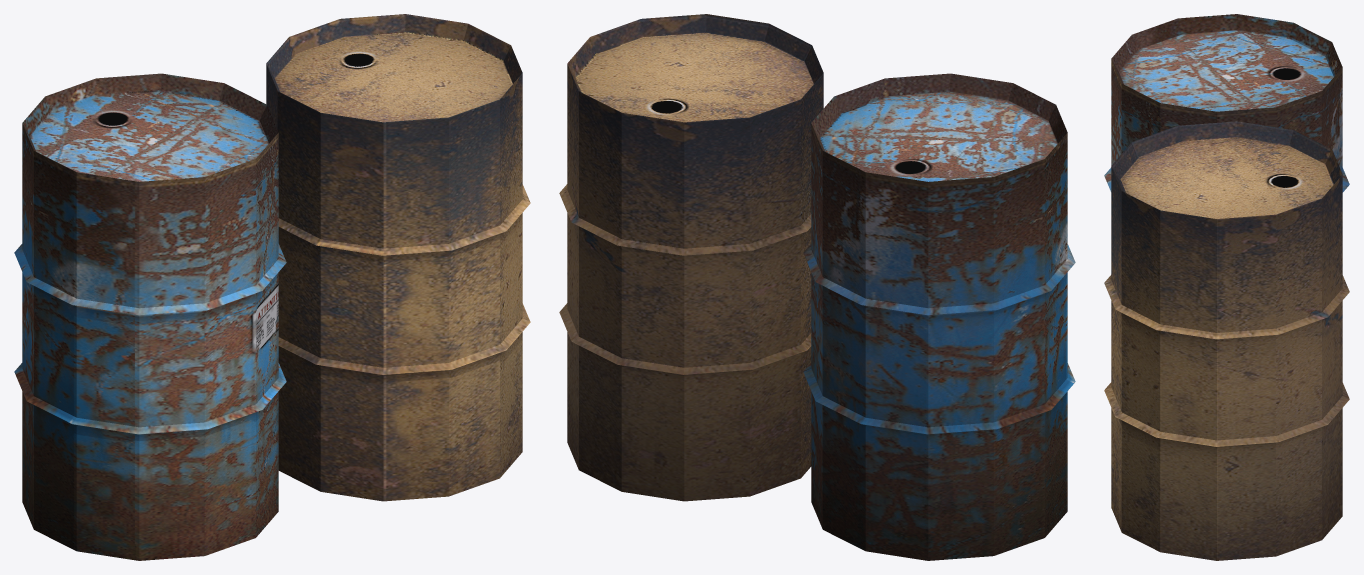
File: Hangar_Drums.FBX
3 views of the same model, side by side, from view 1: azimuth 30°, elevation 25°; view 2: azimuth 150°, elevation 25°; view 3: azimuth 270°, elevation 25° (orthographic). The views are drawn at different scales.
Parts seen in each view (by area): view 1: Hangar_Drums; view 2: Hangar_Drums; view 3: Hangar_Drums.
Boxes of the visible parts, box(x1,y1,x2,y2) form: Hangar_Drums: box(14, 14, 530, 560); Hangar_Drums: box(559, 14, 1075, 560); Hangar_Drums: box(1104, 14, 1349, 560).
Bounding box in the file's own units: 206 × 156 × 101.
